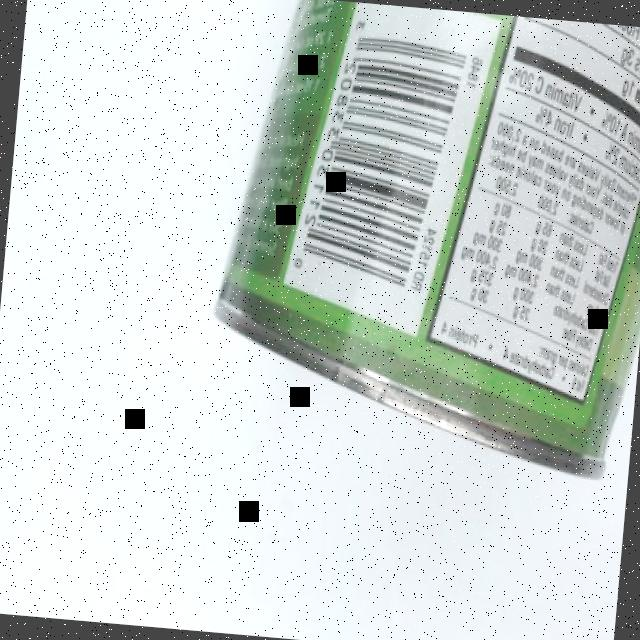can: (191, 0, 640, 497)
